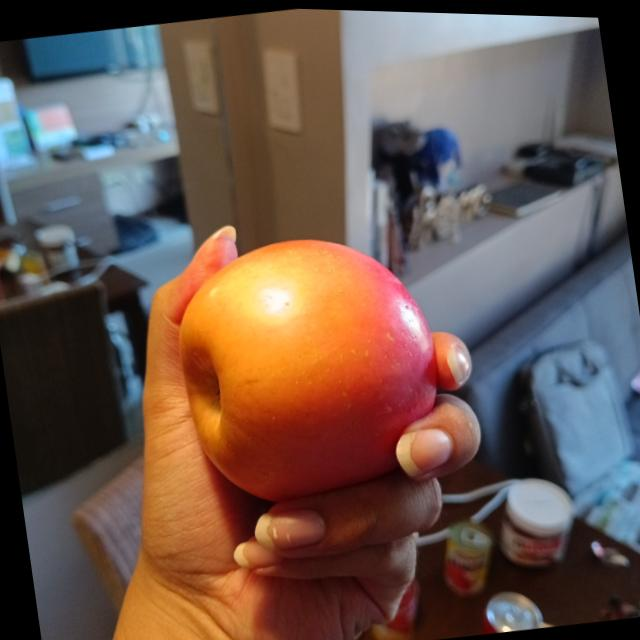apple: (165, 217, 454, 512)
